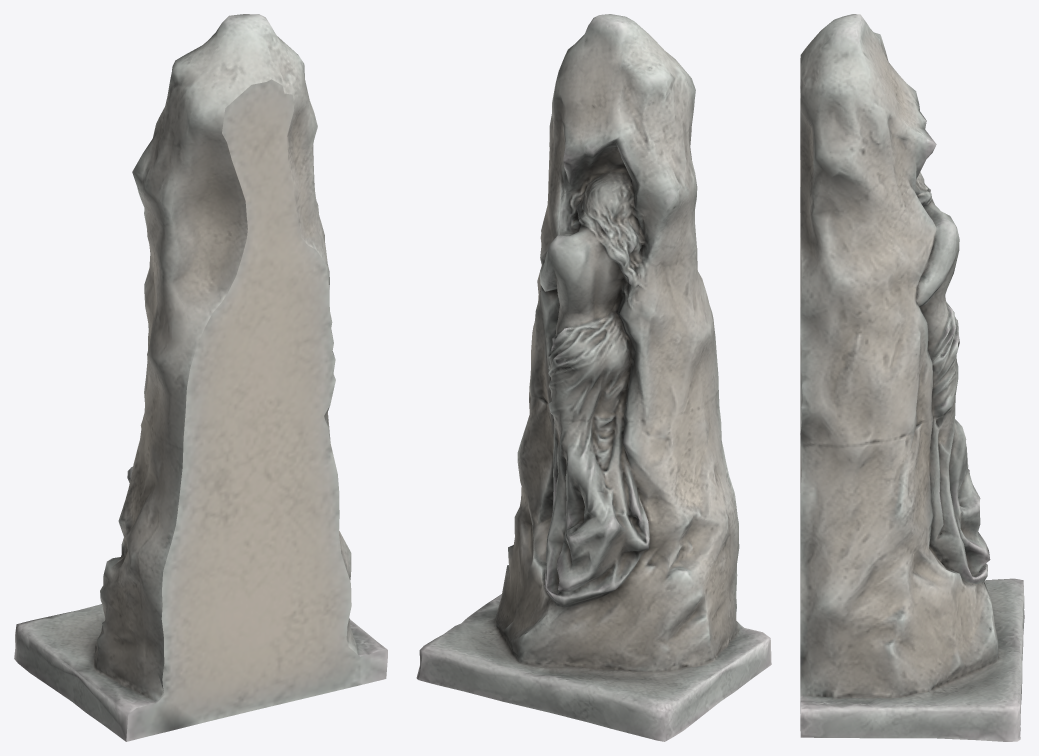
The model's file is woman_statue.glb.
3 renders of one model, left to right at view 1: azimuth 30°, elevation 25°; view 2: azimuth 150°, elevation 25°; view 3: azimuth 270°, elevation 25°, orthographic. The views are drawn at different scales.
Parts seen in each view (by area): view 1: WomanRockLow; view 2: WomanRockLow; view 3: WomanRockLow.
Part boxes in pixels (bbox=[...]): WomanRockLow: bbox=[14, 14, 387, 741]; WomanRockLow: bbox=[416, 14, 771, 741]; WomanRockLow: bbox=[800, 14, 1024, 741].
Size of the model in its own units: 13.92 by 33.04 by 10.14.
1 material, 1 textured.
